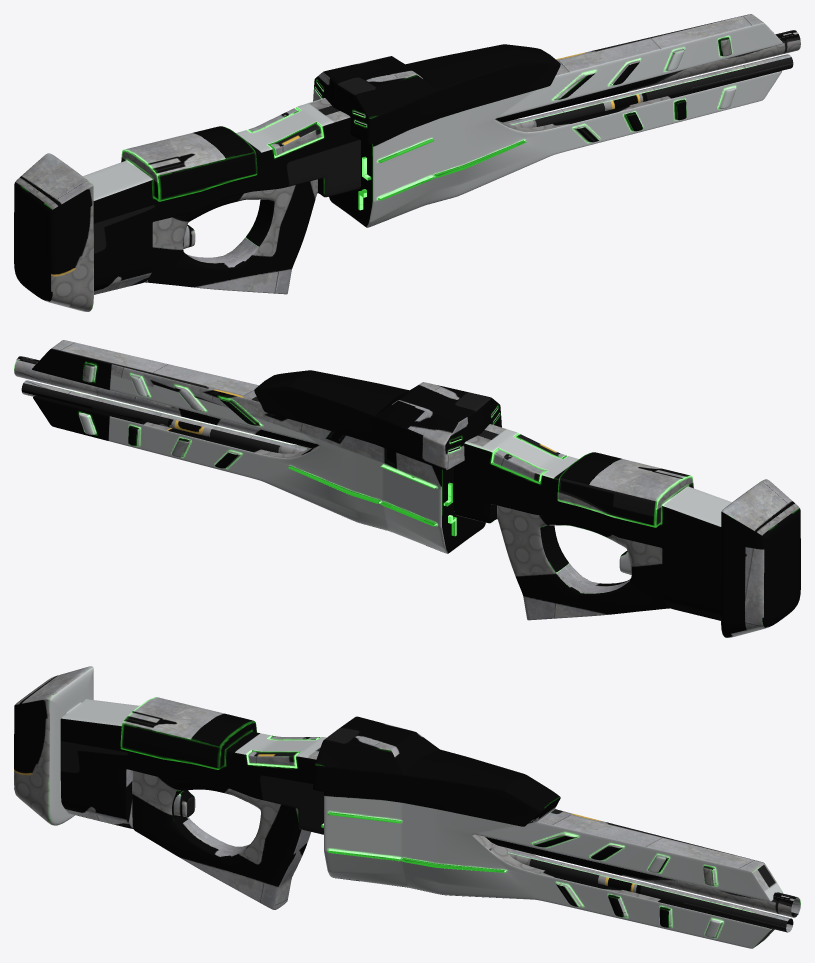
Rendered from Rifle.fbx.
3 views of the same model, one above another, from view 1: azimuth 30°, elevation 25°; view 2: azimuth 150°, elevation 25°; view 3: azimuth 330°, elevation 25° (orthographic).
Parts seen in each view (by area): view 1: Rifle; view 2: Rifle; view 3: Rifle.
Boxes of the visible parts, x1,y1,x2,y2 form: Rifle: [14, 14, 800, 311]; Rifle: [14, 340, 800, 637]; Rifle: [14, 666, 800, 948].
Size of the model in its own units: 1015 by 248 by 130.
